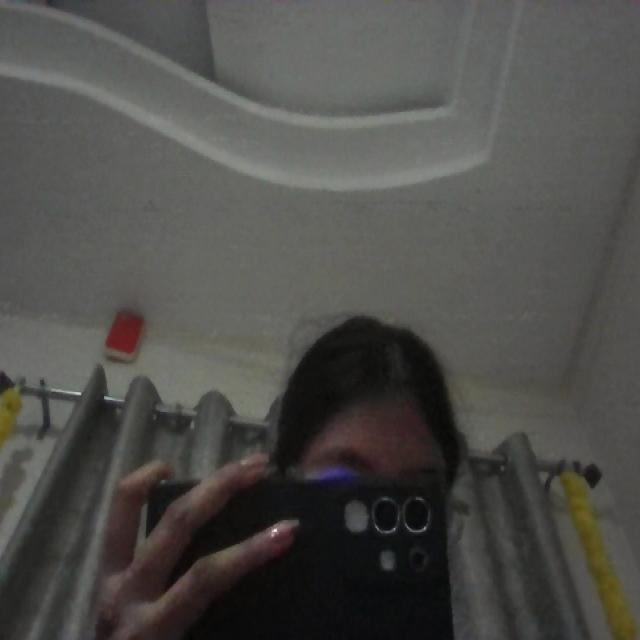phone: (172, 472, 453, 639)
